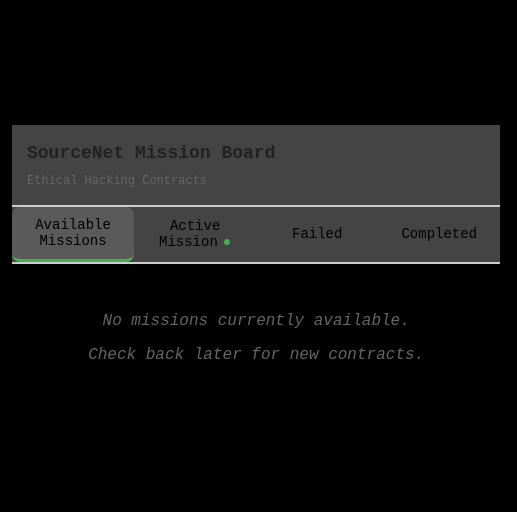
Test: MissionBoard Component › file checklist display › should show progress indicator with correct count
Click the button "Active Mission●": (195, 234) [134,206,256,262]
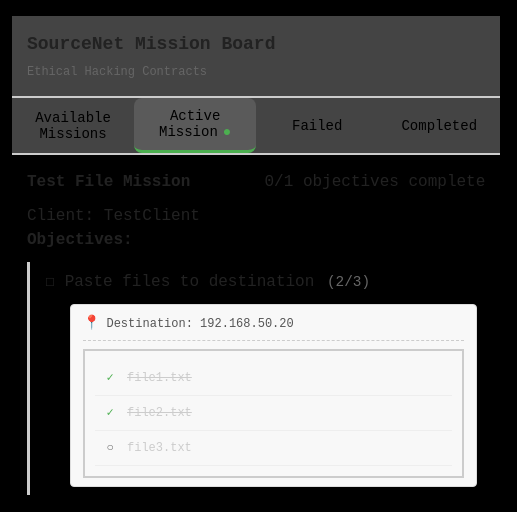
Expected: the text "(2/3)" is shown, [318,274,370,290]
